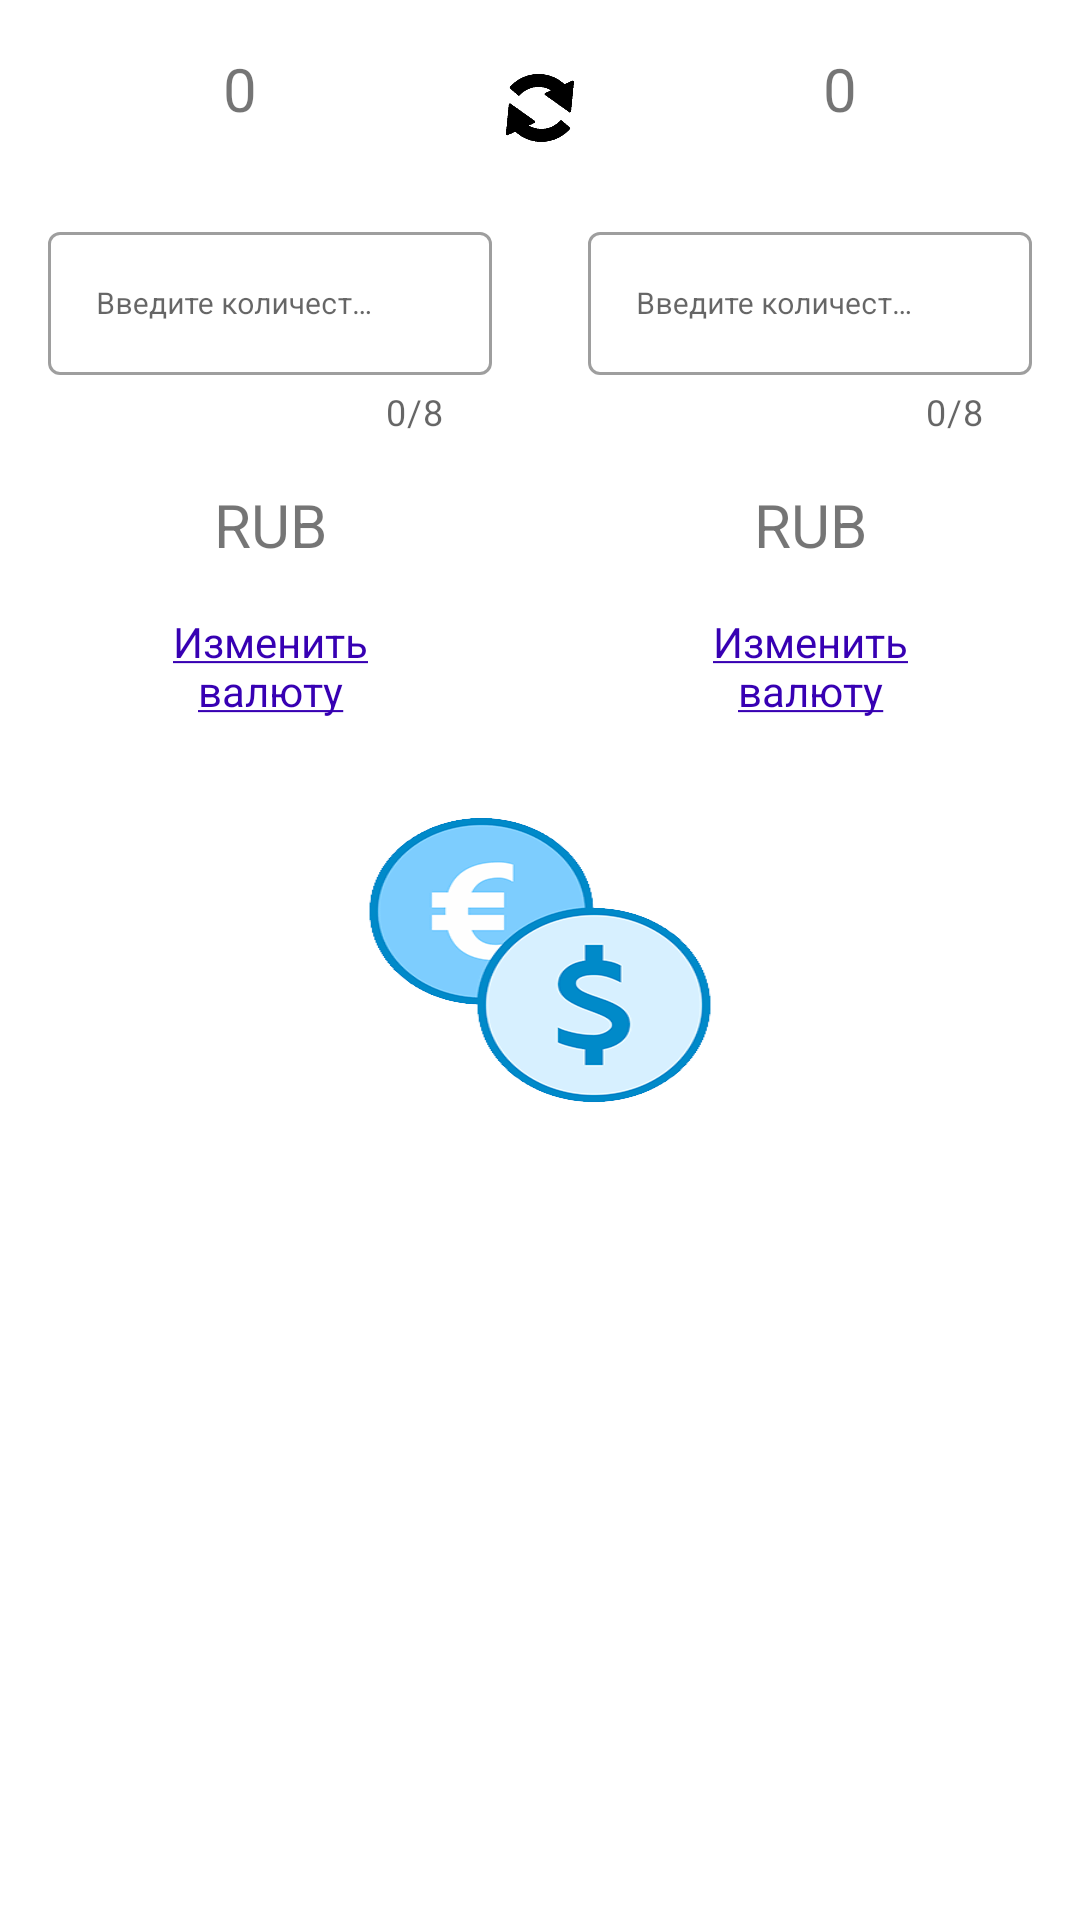

Locate icon controls on the screen. Image size 1080w x 1920h, boxes as (x1, y1, x2, y2).
convert: (506, 74, 574, 142)
